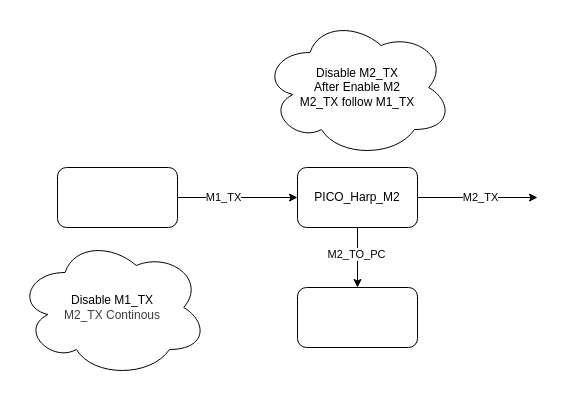
Some shapes in this 563 by 395 pixel diagram are drawn without their labels. Each missing label, with the centre of its shape:
"PICO_Harp_M1" belongs at (x=117, y=197).
"PICO_USB" belongs at (x=357, y=317).
